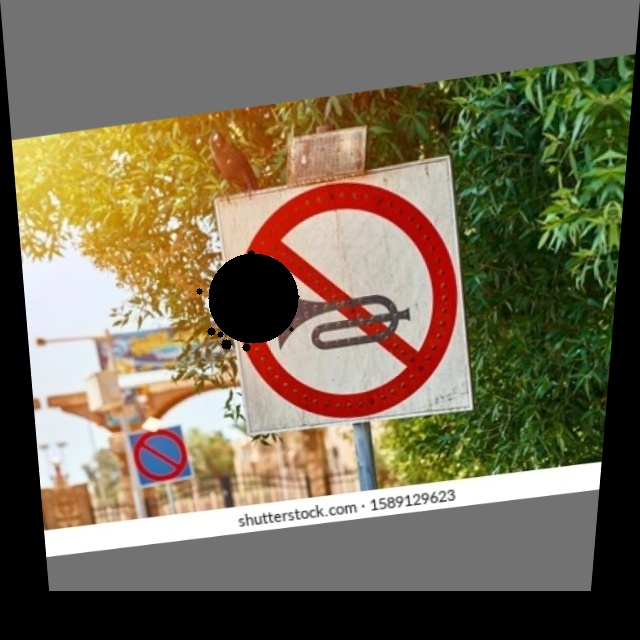Horn_Prohibited: (214, 164, 476, 430)
